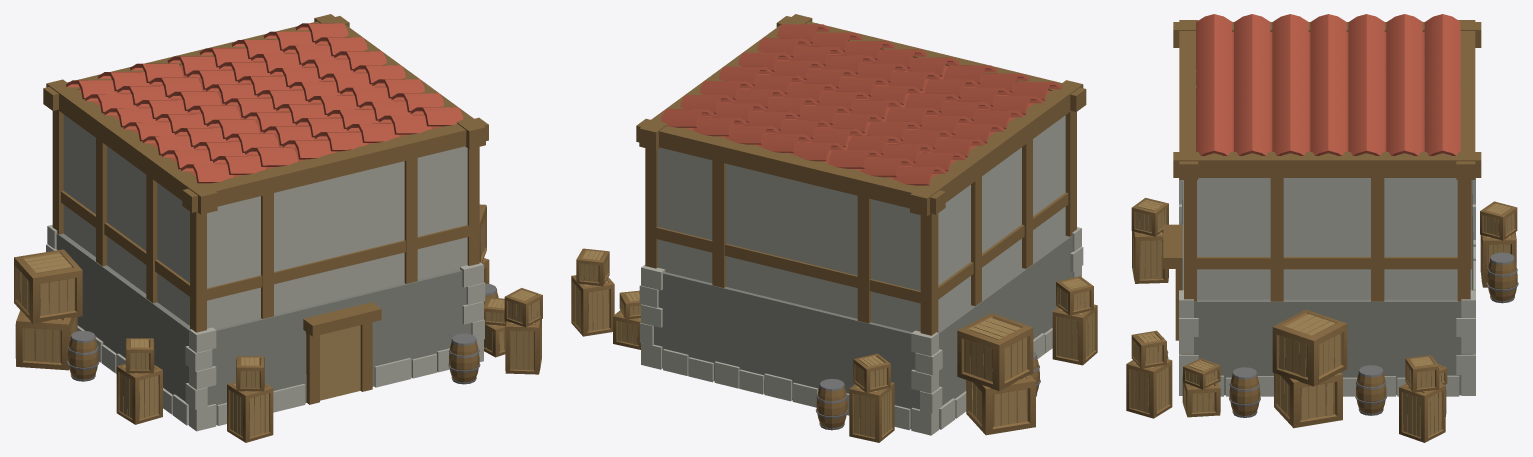
The model's file is Storage House.glb.
3 views of the same model, side by side, from view 1: azimuth 30°, elevation 25°; view 2: azimuth 150°, elevation 25°; view 3: azimuth 270°, elevation 25° (orthographic).
Visible parts, largest first — view 1: Storage House; view 2: Storage House; view 3: Storage House.
Part boxes in pixels (box(x1,y1,x2,y2)): Storage House: box(14, 14, 542, 442); Storage House: box(571, 14, 1097, 442); Storage House: box(1126, 14, 1518, 442).
Bounding box in the file's own units: 1.65 × 0.891 × 1.25.
